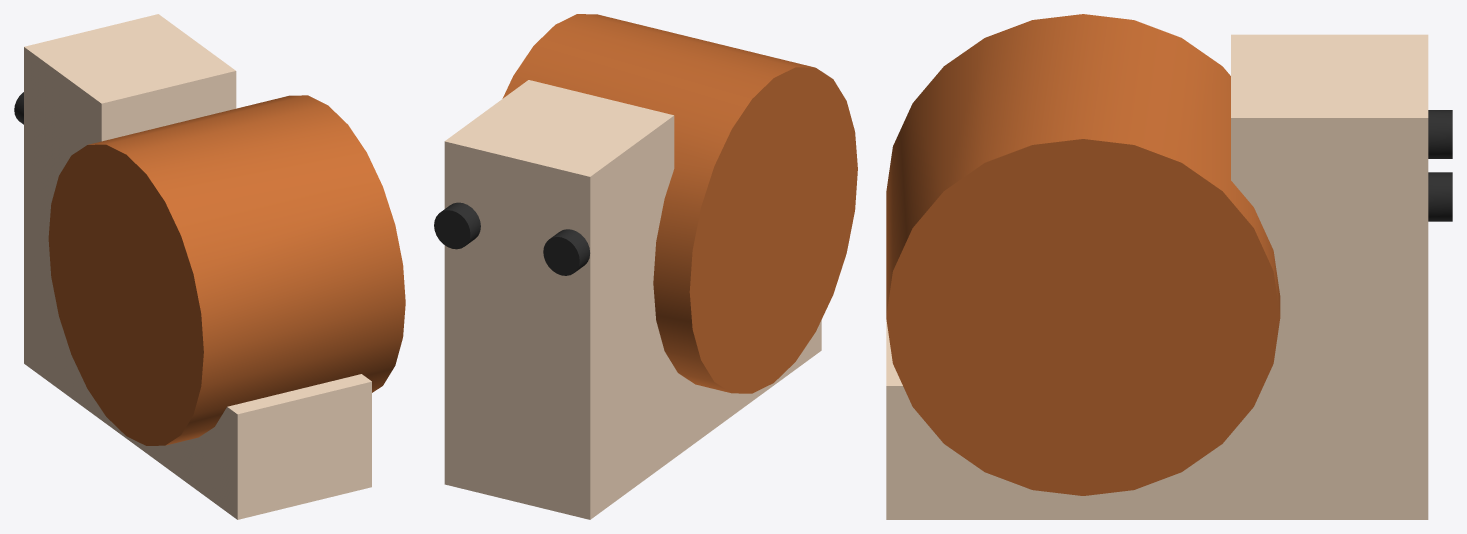
The model's file is snail.model.obj.
The picture shows the model from 3 angles, left to right: view 1: azimuth 30°, elevation 25°; view 2: azimuth 150°, elevation 25°; view 3: azimuth 270°, elevation 25°; orthographic projection. The views are drawn at different scales.
Bounding box in the file's own units: 0.6 × 0.9 × 1.15.
